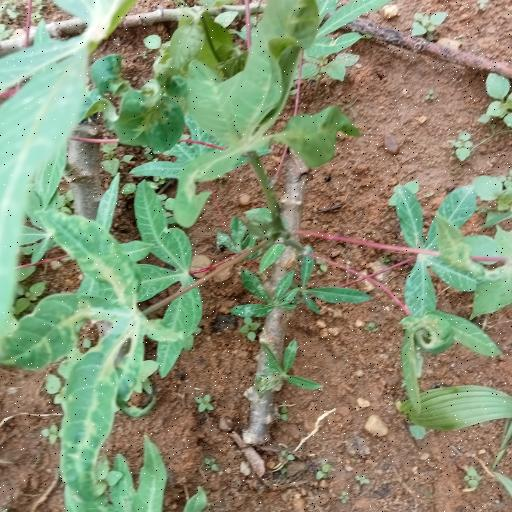Cassava_Mosaic: (0, 213, 176, 512), (162, 2, 346, 172), (388, 179, 495, 321)
